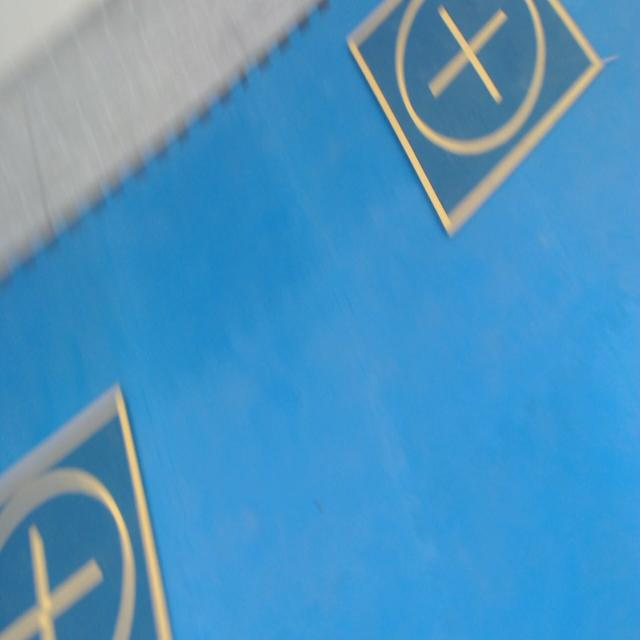base_pouso: (345, 1, 609, 241), (0, 376, 174, 639)
